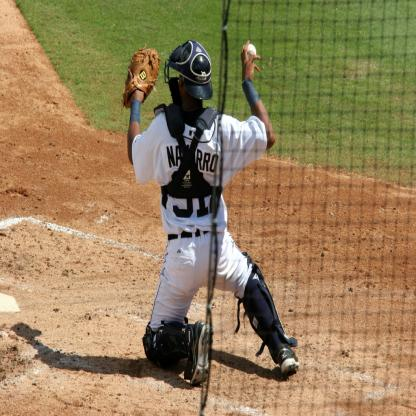Helmet: (167, 38, 214, 117)
